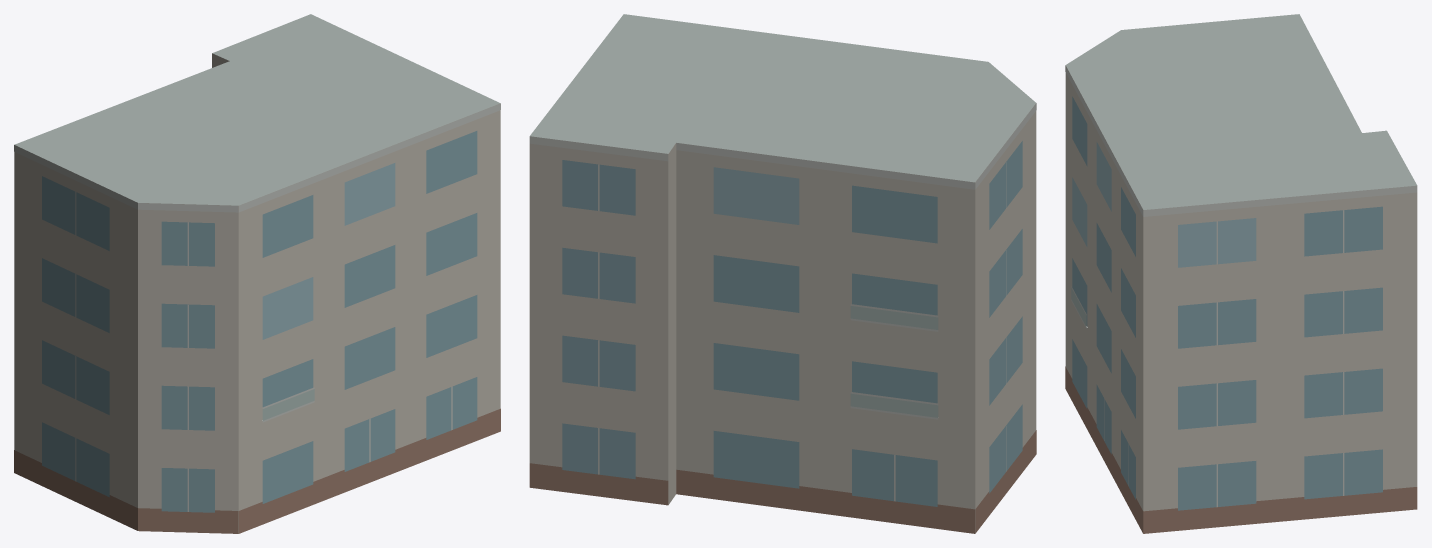
Rendered from survey-upis-32838058.glb.
3 views of the same model, side by side, from view 1: azimuth 30°, elevation 25°; view 2: azimuth 150°, elevation 25°; view 3: azimuth 270°, elevation 25° (orthographic). The views are drawn at different scales.
Parts seen in each view (by area): view 1: survey-upis-32838058.tmp; view 2: survey-upis-32838058.tmp; view 3: survey-upis-32838058.tmp.
Boxes of the visible parts, <box> form: survey-upis-32838058.tmp: <box>14,14,500,533</box>; survey-upis-32838058.tmp: <box>529,14,1036,533</box>; survey-upis-32838058.tmp: <box>1065,14,1417,533</box>.
Bounding box in the file's own units: 15.05 × 11.58 × 11.42.
